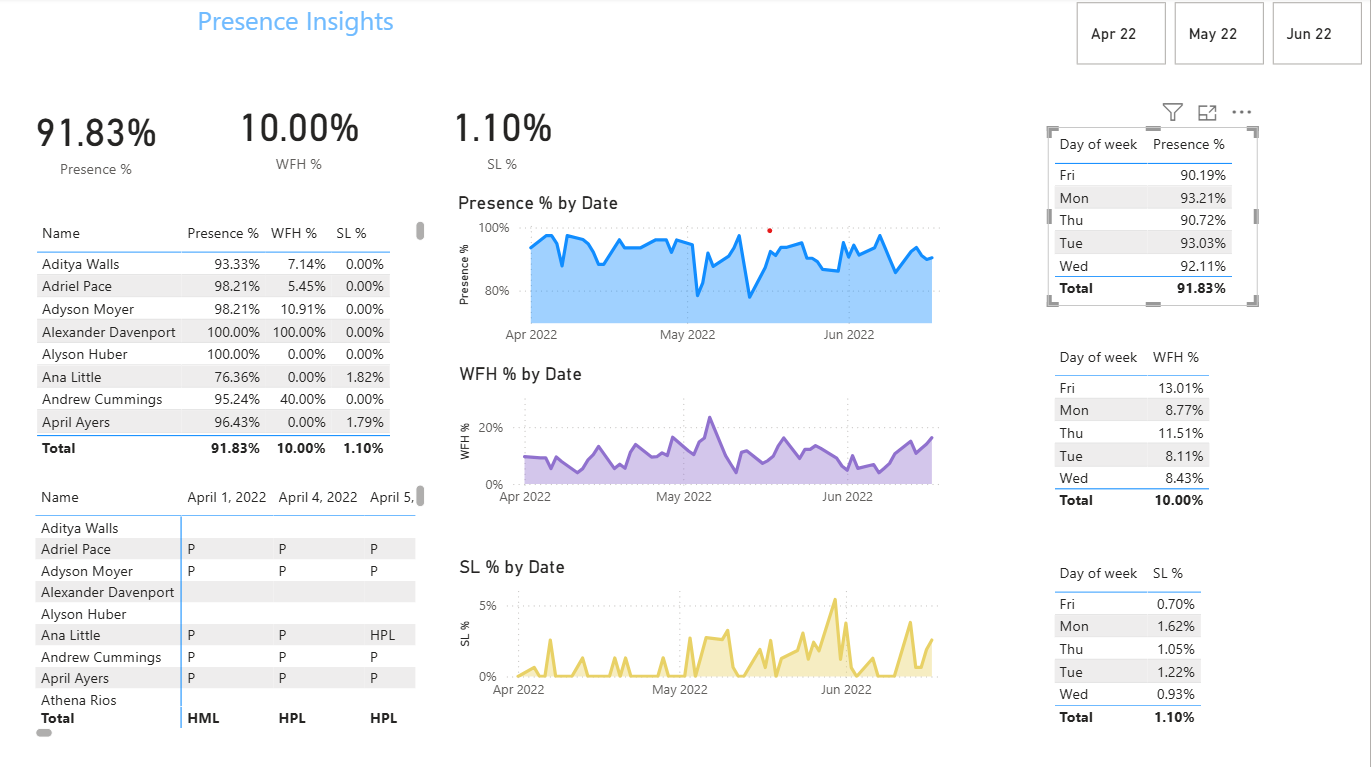

What the dashboard file says about the page in this screenshot:
{"tool":"powerbi","page":{"name":"Page 1","canvas":[1280,720],"ordinal":0},"visuals":[{"type":"advancedSlicerVisual","fields":{"Values":["Final Data.Month"]},"box":[1002.5,0,277.5,68.8],"z":0},{"type":"card","fields":{"Values":["Measure Table.Presence %"]},"box":[0,73.8,190,117.5],"z":1000},{"type":"tableEx","fields":{"Values":["Final Data.Name","Measure Table.Presence %","Measure Table.WFH %","Measure Table.SL %"]},"box":[33.8,203.8,372.5,230],"z":2000},{"type":"textbox","box":[75,0,418.8,48.8],"z":3000},{"type":"card","fields":{"Values":["Measure Table.WFH %"]},"box":[191.2,73.8,186.2,107.5],"z":4000},{"type":"card","fields":{"Values":["Measure Table.SL %"]},"box":[377.5,68.8,190,117.5],"z":5000},{"type":"pivotTable","fields":{"Rows":["Final Data.Name"],"Values":["Min(Final Data.Value)"],"Columns":["Final Data.Date"]},"box":[33.8,448.8,372.5,245],"z":6000},{"type":"stackedAreaChart","fields":{"Category":["Final Data.Date"],"Y":["Measure Table.Presence %"]},"box":[426.2,181.2,475,151.2],"z":7000},{"type":"stackedAreaChart","fields":{"Category":["Final Data.Date"],"Y":["Measure Table.WFH %"]},"box":[427.5,341.2,473.8,142.5],"z":8000},{"type":"stackedAreaChart","fields":{"Category":["Final Data.Date"],"Y":["Measure Table.SL %"]},"box":[427.5,520,473.8,142.5],"z":9000},{"type":"tableEx","fields":{"Values":["Final Data.Day of week","Measure Table.Presence %"]},"box":[980,121.4,195.7,165.7],"z":10000},{"type":"tableEx","fields":{"Values":["Final Data.Day of week","Measure Table.WFH %"]},"box":[980,318.6,195.7,165.7],"z":10001},{"type":"tableEx","fields":{"Values":["Final Data.Day of week","Measure Table.SL %"]},"box":[980,520,195.7,165.7],"z":10002}]}

Visuals, with their boxes in screenshot pixels (x1, y1, x2, y2), scaled from the page's 1280x720 canvas onto the 1371x767 screenshot:
advancedSlicerVisual - Final Data.Month: 1074, 0, 1370, 73
card - Measure Table.Presence %: 0, 79, 204, 204
tableEx - Final Data.Name x Measure Table.Presence %: 36, 217, 435, 462
textbox: 80, 0, 529, 52
card - Measure Table.WFH %: 205, 79, 404, 193
card - Measure Table.SL %: 404, 73, 608, 198
pivotTable - Final Data.Name x Min(Final Data.Value): 36, 478, 435, 739
stackedAreaChart - Final Data.Date x Measure Table.Presence %: 457, 193, 965, 354
stackedAreaChart - Final Data.Date x Measure Table.WFH %: 458, 363, 965, 515
stackedAreaChart - Final Data.Date x Measure Table.SL %: 458, 554, 965, 706
tableEx - Final Data.Day of week x Measure Table.Presence %: 1050, 129, 1259, 306
tableEx - Final Data.Day of week x Measure Table.WFH %: 1050, 339, 1259, 516
tableEx - Final Data.Day of week x Measure Table.SL %: 1050, 554, 1259, 730
